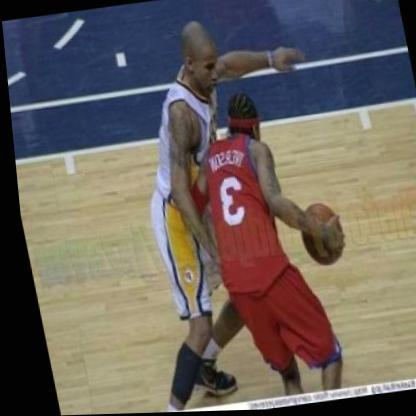basketball: (288, 195, 342, 276)
